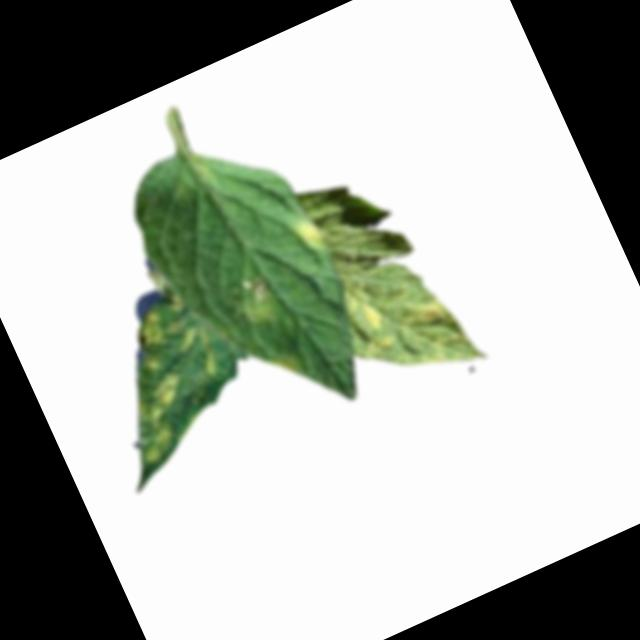Leaf_Mold: (395, 288, 482, 383), (337, 283, 396, 361), (173, 320, 227, 385), (133, 368, 190, 422), (284, 214, 330, 261), (135, 423, 182, 465), (129, 306, 171, 352)
